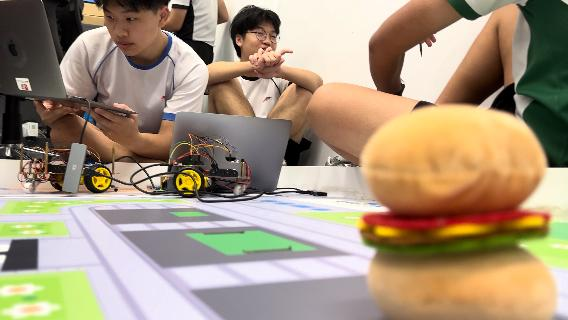burger: (358, 105, 564, 319)
